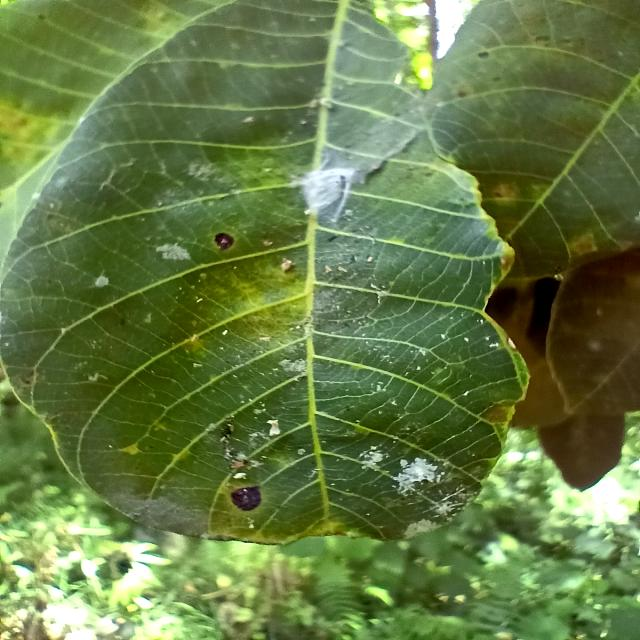Colletotrichum: (230, 486, 262, 512), (215, 233, 234, 251)
